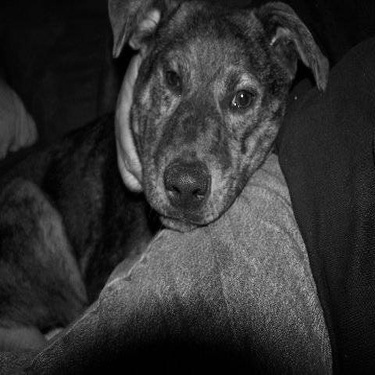dog: (1, 4, 333, 366)
